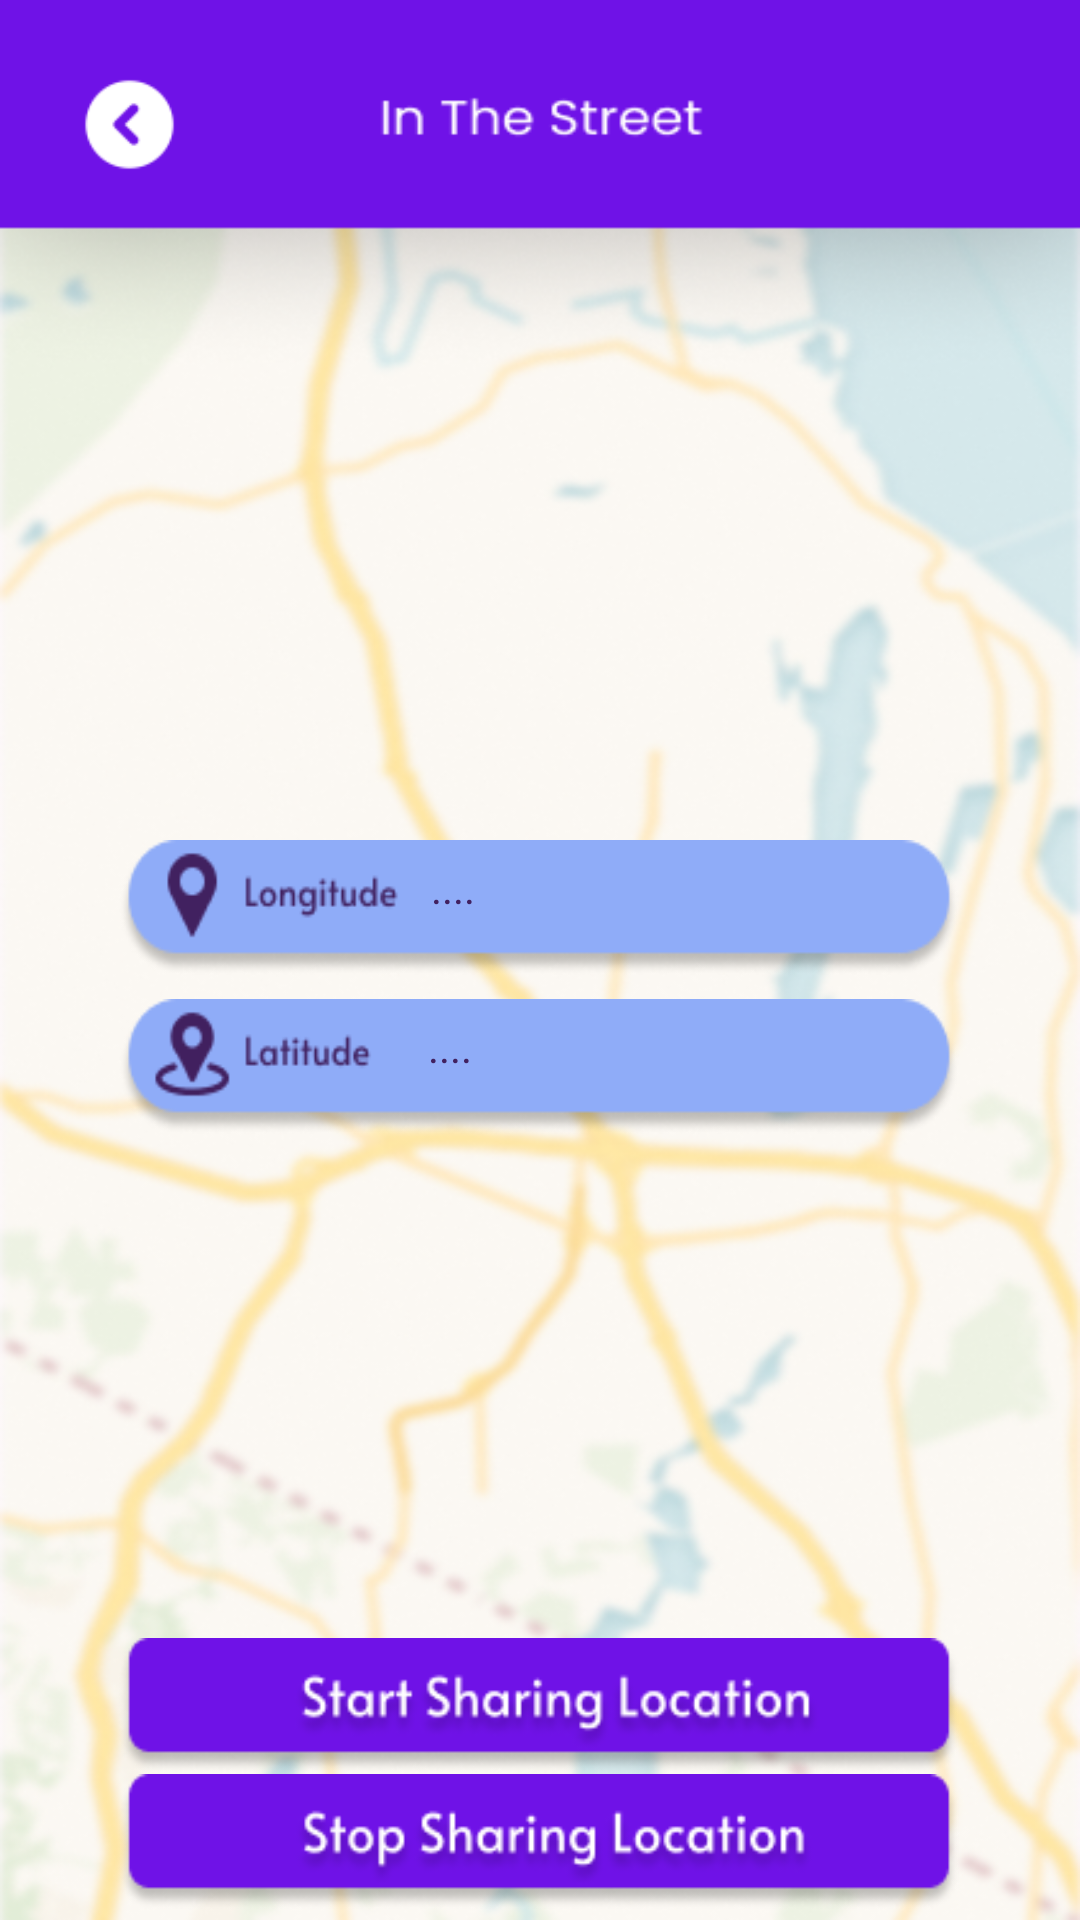

Point at icon controls on the screen. Image size 1080px×1920px, points as (x,y).
back: (129,124)
